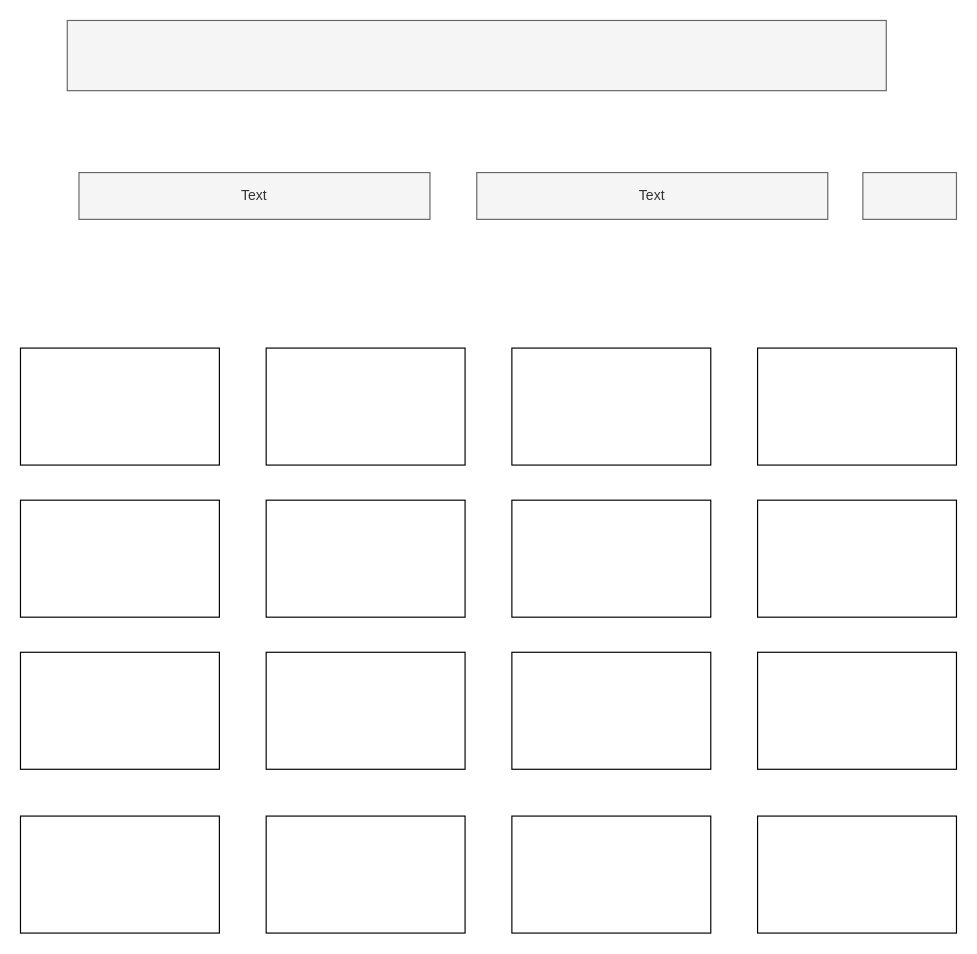
Some shapes in this 977 by 954 pixel diagram are drawn without their labels. The centre of each missing label's shape, as x and y in pixels:
"Giphy API. Search About Contact" belongs at (x=476, y=55).
"Submit" belongs at (x=909, y=195).
